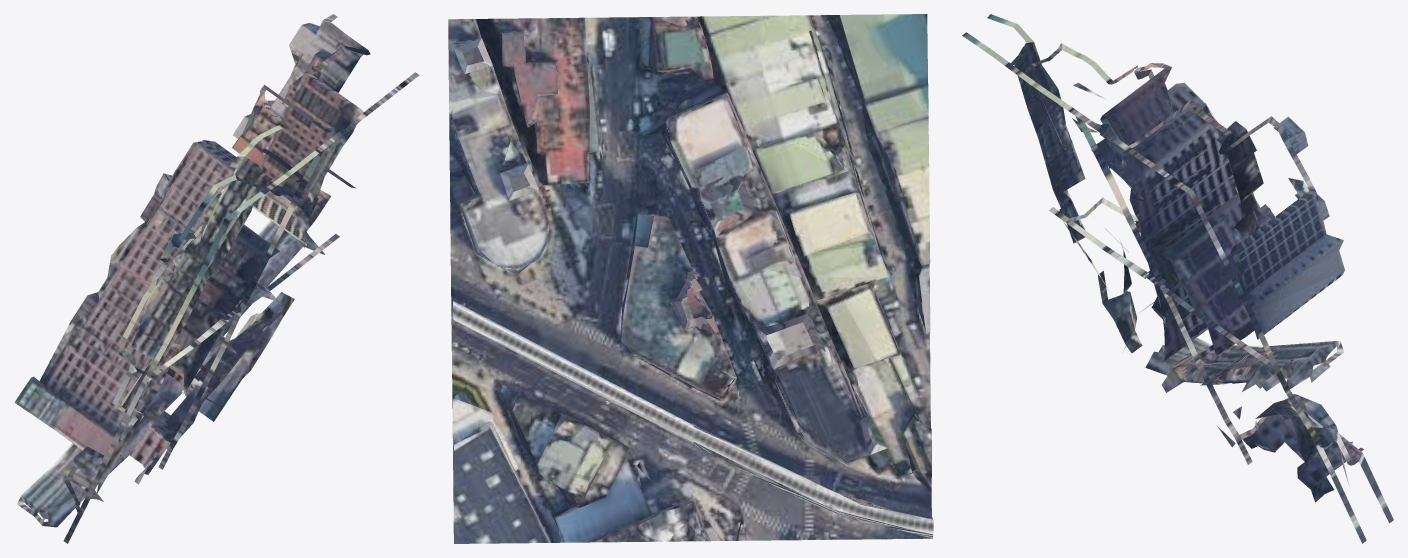
3 views of the same model, side by side, from view 1: azimuth 30°, elevation 25°; view 2: azimuth 150°, elevation 25°; view 3: azimuth 270°, elevation 25° (orthographic). The views are drawn at different scales.
Bounding box in the file's own units: 162 × 154 × 137.
1 material, 1 textured.
